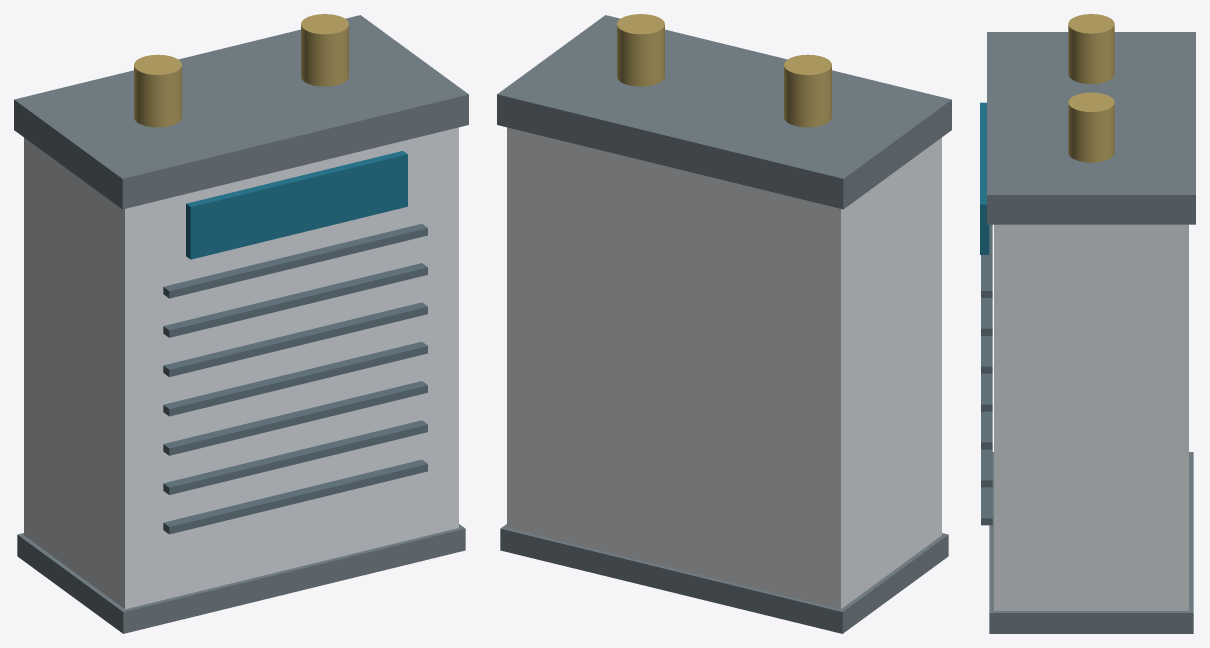
The model's file is capacitor-compensation-box.glb.
3 views of the same model, side by side, from view 1: azimuth 30°, elevation 25°; view 2: azimuth 150°, elevation 25°; view 3: azimuth 270°, elevation 25° (orthographic). The views are drawn at different scales.
Visible parts, largest first — view 1: 电容补偿盒 · 外形示意; view 2: 电容补偿盒 · 外形示意; view 3: 电容补偿盒 · 外形示意.
Boxes of the visible parts, x1,y1,x2,y2 form: 电容补偿盒 · 外形示意: (14, 14, 468, 633); 电容补偿盒 · 外形示意: (497, 14, 951, 633); 电容补偿盒 · 外形示意: (980, 14, 1195, 633).
Bounding box in the file's own units: 0.83 × 1.16 × 0.465.
